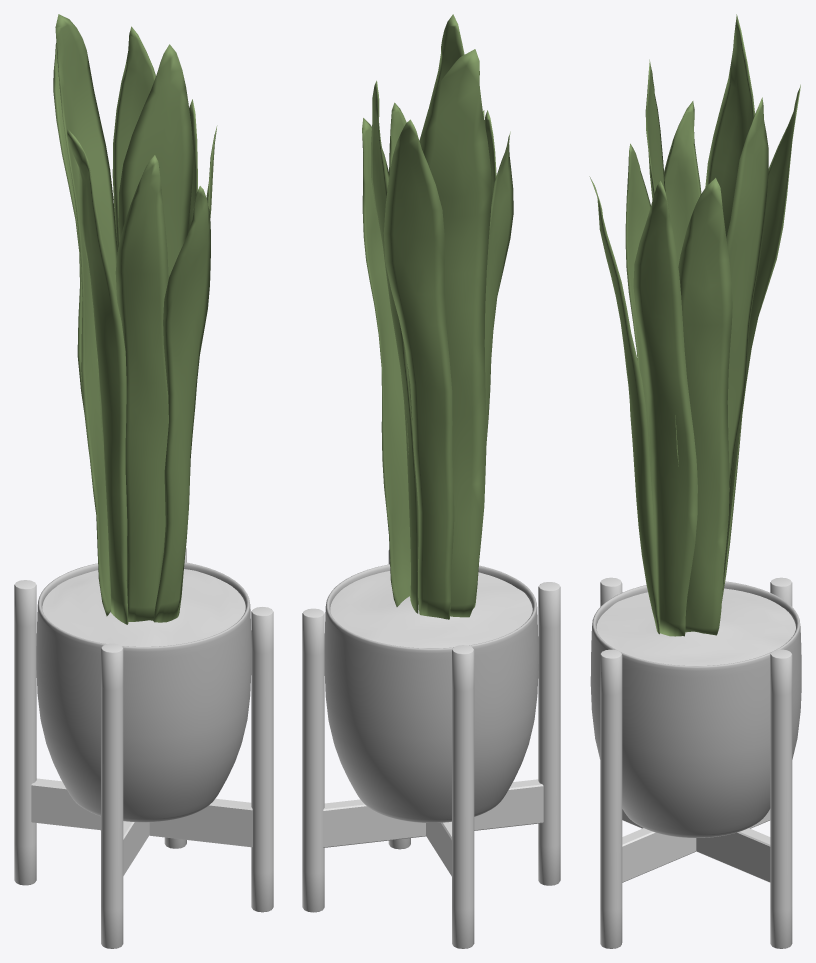
Rendered from Snake Plant.fbx.
The picture shows the model from 3 angles, left to right: view 1: azimuth 30°, elevation 25°; view 2: azimuth 150°, elevation 25°; view 3: azimuth 270°, elevation 25°; orthographic projection. The views are drawn at different scales.
Visible parts, largest first — view 1: Vase_Circular-Simple-Wooden-Pedestal_B_spring-summer-autumn., Plant_Snake-Plant_A_spring-summer-autumn.001; view 2: Vase_Circular-Simple-Wooden-Pedestal_B_spring-summer-autumn., Plant_Snake-Plant_A_spring-summer-autumn.001; view 3: Plant_Snake-Plant_A_spring-summer-autumn.001, Vase_Circular-Simple-Wooden-Pedestal_B_spring-summer-autumn..
Part boxes in pixels (x1,y1,x2,y2): Vase_Circular-Simple-Wooden-Pedestal_B_spring-summer-autumn.: (14, 547, 273, 948); Plant_Snake-Plant_A_spring-summer-autumn.001: (53, 14, 217, 624); Vase_Circular-Simple-Wooden-Pedestal_B_spring-summer-autumn.: (302, 550, 560, 948); Plant_Snake-Plant_A_spring-summer-autumn.001: (362, 14, 513, 619); Plant_Snake-Plant_A_spring-summer-autumn.001: (589, 14, 800, 636); Vase_Circular-Simple-Wooden-Pedestal_B_spring-summer-autumn.: (590, 577, 801, 948).
Bounding box in the file's own units: 27.33 × 124 × 27.54.
